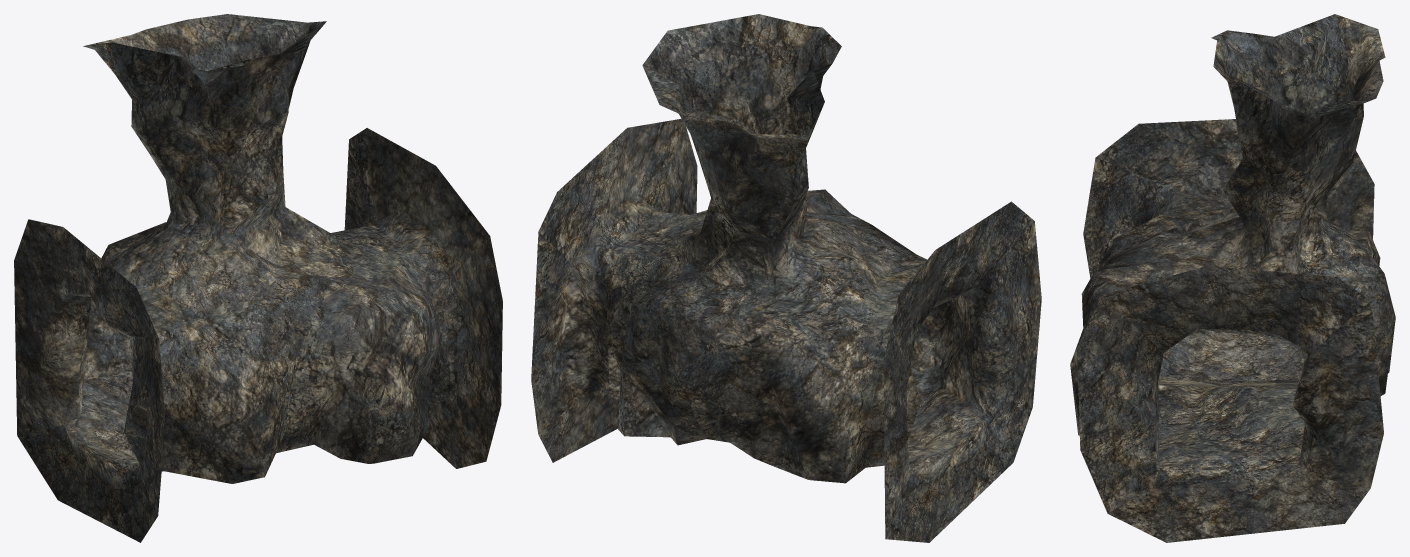
File: Module2_LOD1.fbx
3 views of the same model, side by side, from view 1: azimuth 30°, elevation 25°; view 2: azimuth 150°, elevation 25°; view 3: azimuth 270°, elevation 25° (orthographic). The views are drawn at different scales.
Parts seen in each view (by area): view 1: cave_el2_1000_Group29253; view 2: cave_el2_1000_Group29253; view 3: cave_el2_1000_Group29253.
Boxes of the visible parts, x1=… form: cave_el2_1000_Group29253: x1=14, y1=14, x2=502, y2=542; cave_el2_1000_Group29253: x1=531, y1=14, x2=1041, y2=542; cave_el2_1000_Group29253: x1=1070, y1=14, x2=1395, y2=542.
Size of the model in its own units: 10.84 by 13.04 by 9.22.
